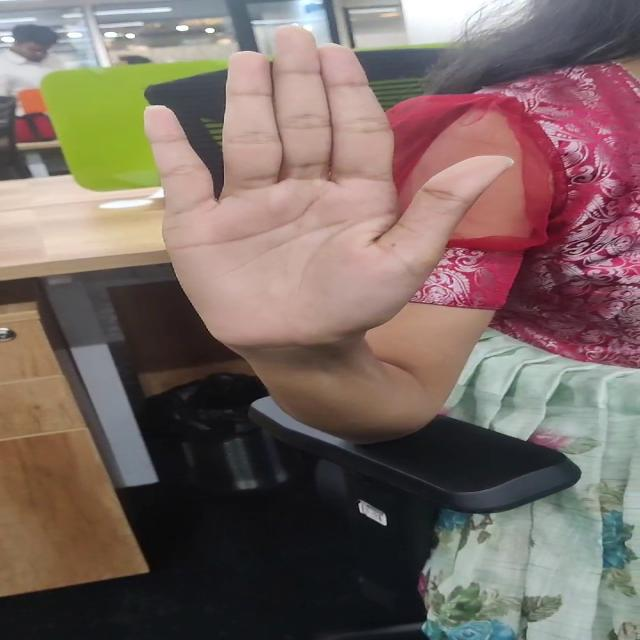no-gloves: (129, 18, 516, 364)
